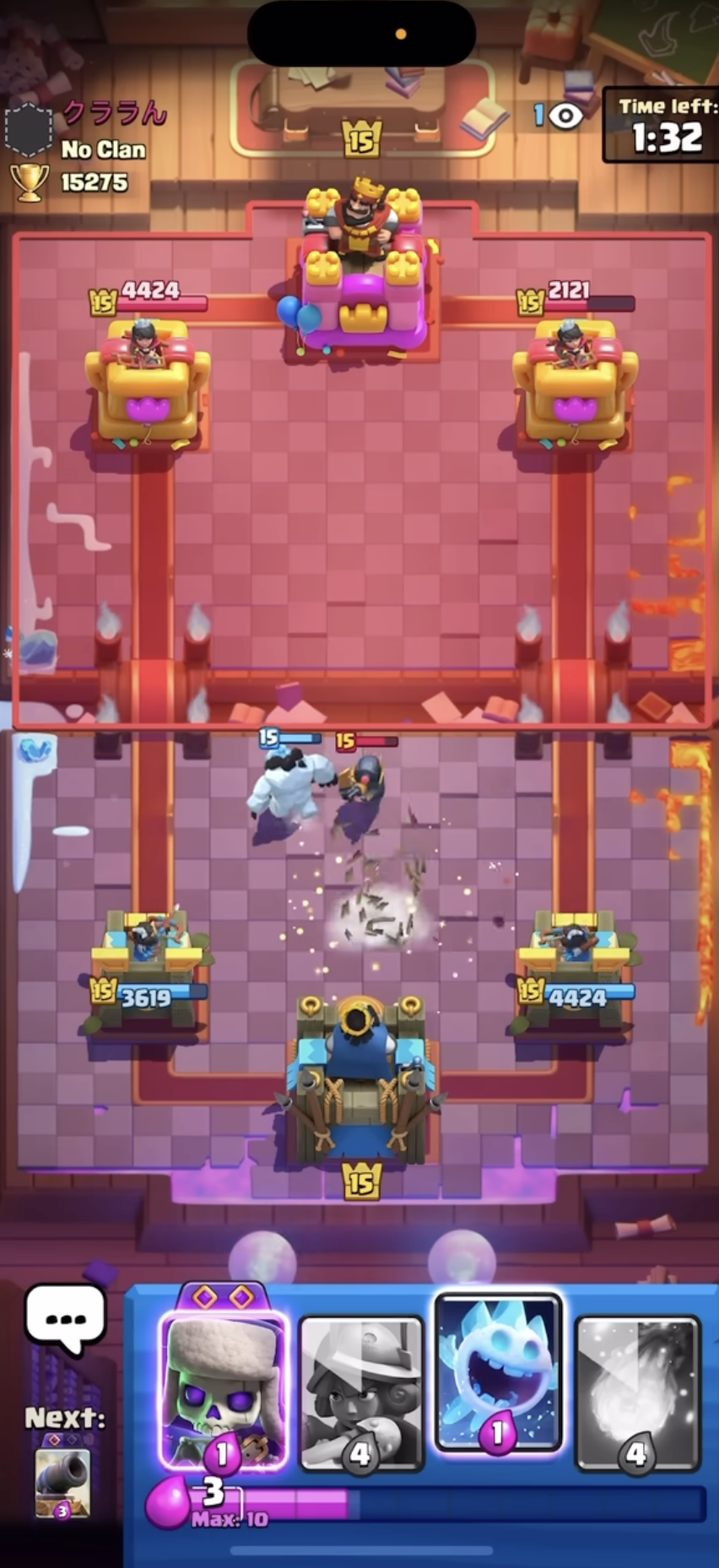mini-pekka: (333, 726, 405, 807)
